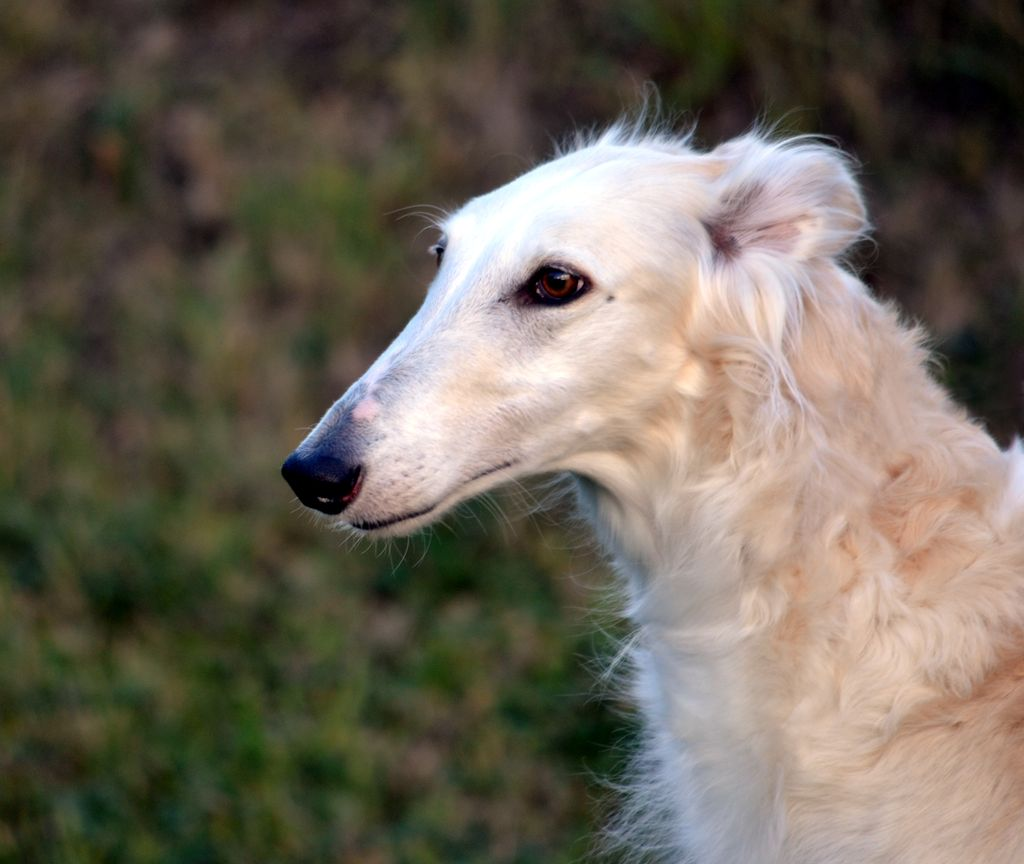borzoi: (283, 111, 1002, 821)
